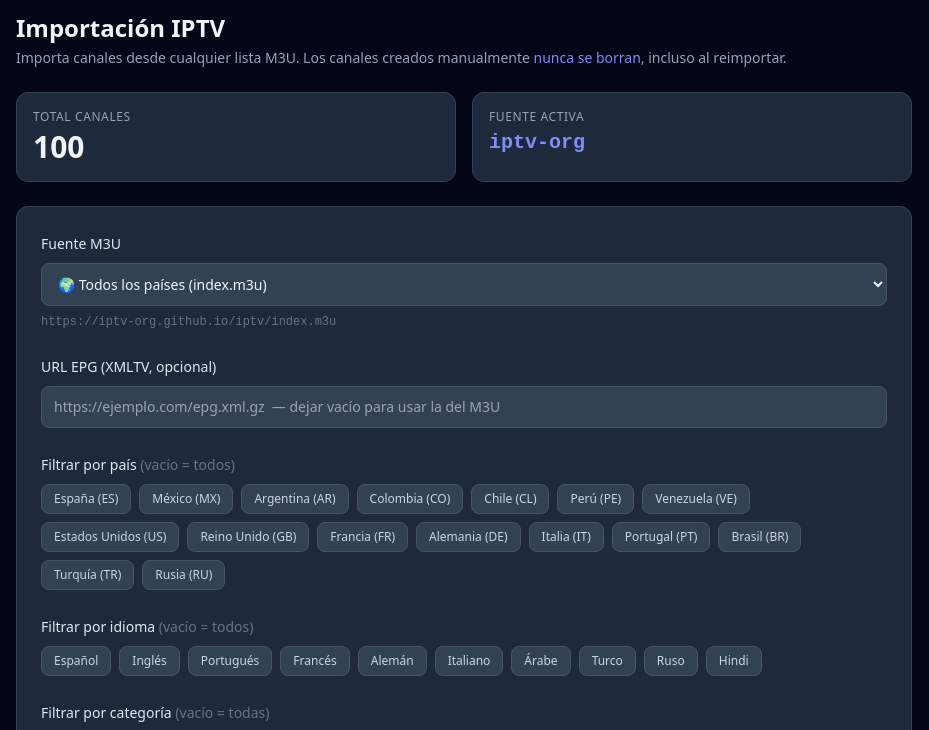
IPTVPage › shows custom URL input when "URL personalizada" is selected
Expected: the text "Fuente M3U" is shown, [41,234,121,253]
Select "🔗 URL personalizada" in the dropdown showing "Todos los países" at (464, 284), box [41,263,887,306]
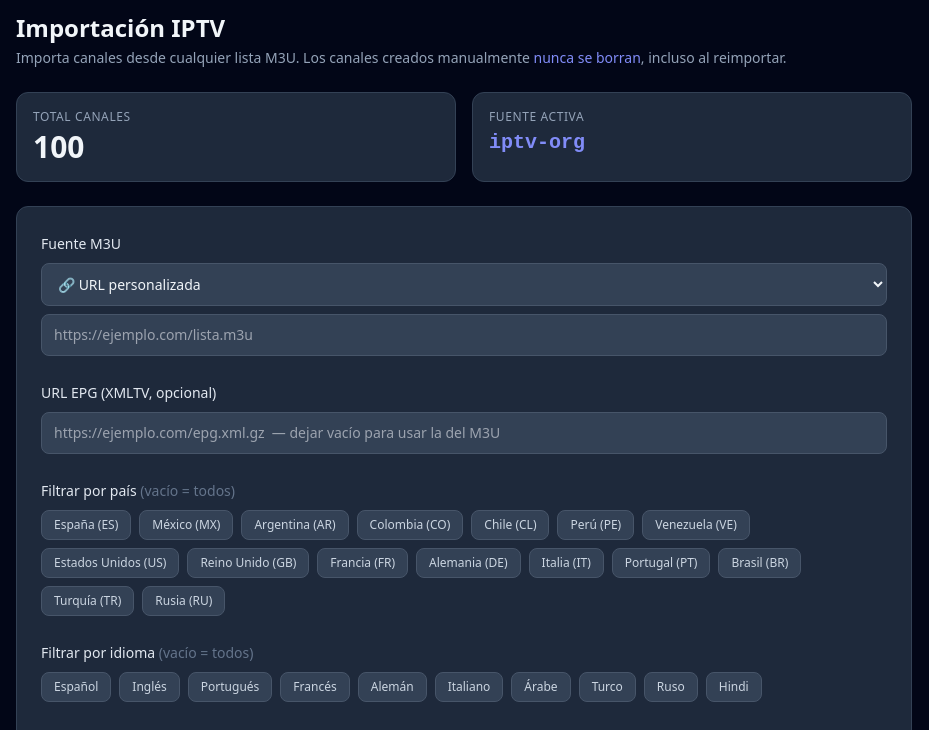
Now the field with placeholder "https://ejemplo.com/lista.m3u" is shown, box [41,314,887,356]
